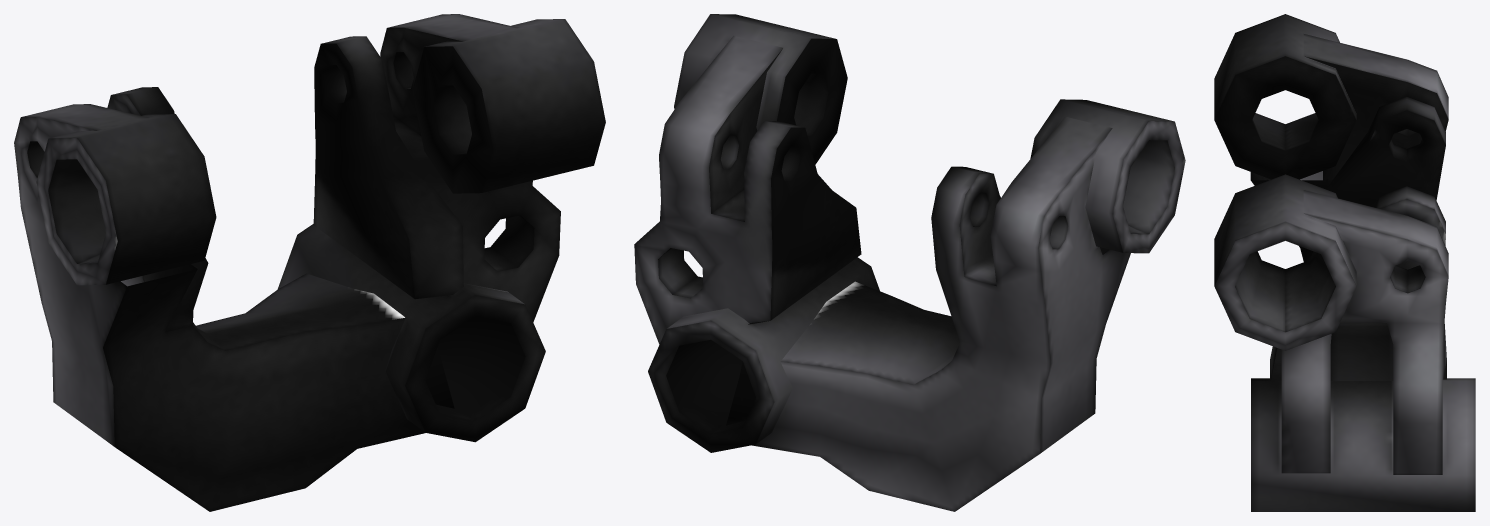
File: l_lglut.obj
3 views of the same model, side by side, from view 1: azimuth 30°, elevation 25°; view 2: azimuth 150°, elevation 25°; view 3: azimuth 270°, elevation 25° (orthographic). The views are drawn at different scales.
Parts seen in each view (by area): view 1: <dummy_root>; view 2: <dummy_root>; view 3: <dummy_root>.
Boxes of the visible parts, bbox=[...] form: <dummy_root>: bbox=[14, 14, 605, 511]; <dummy_root>: bbox=[634, 14, 1185, 511]; <dummy_root>: bbox=[1214, 14, 1475, 511].
Bounding box in the file's own units: 0.1439 × 0.1175 × 0.0762.
1 material, 1 textured.
